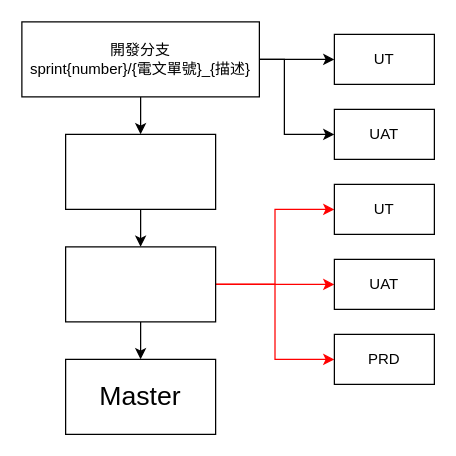
This 456x456 diagram has some shape labels left out. Here are the shapes that lost their labels. From the top down, the box of each, then its label:
(64, 133, 216, 209): Develop
(64, 246, 216, 322): Release
